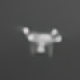plane: (18, 24, 66, 58)
